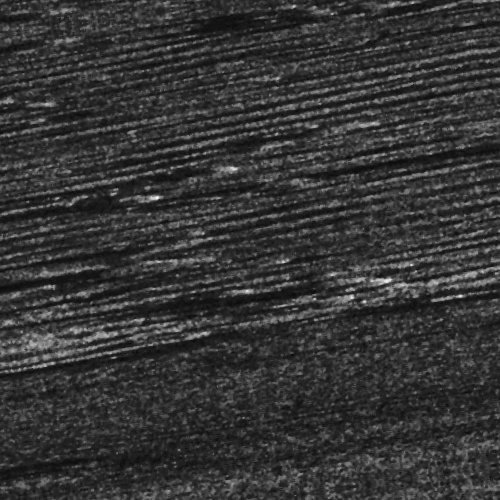object: (0, 0, 215, 24), (113, 222, 238, 233), (286, 284, 391, 297), (318, 289, 423, 302), (139, 177, 180, 186), (0, 57, 38, 64), (209, 283, 262, 288)
shadow: (345, 174, 500, 191), (0, 0, 105, 24), (155, 284, 338, 297), (188, 289, 370, 302), (0, 222, 176, 233), (0, 177, 160, 186), (384, 322, 500, 333), (417, 315, 500, 322), (173, 283, 236, 288)
